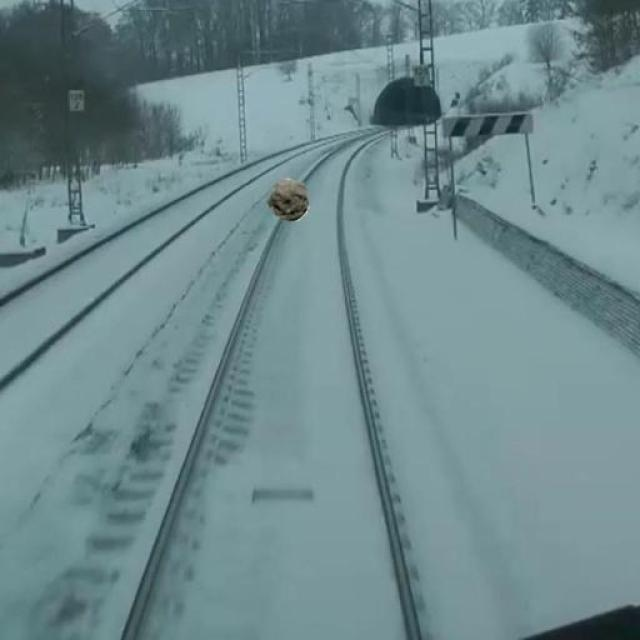Stone: (265, 176, 314, 222)
